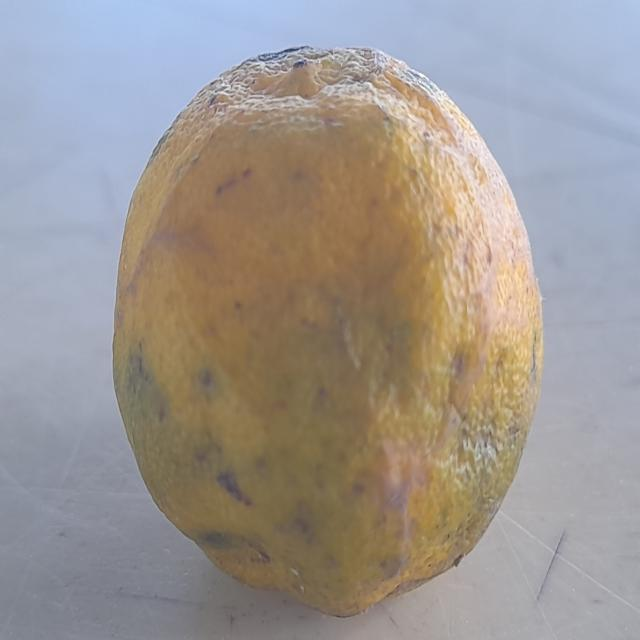black spot: (85, 21, 566, 630)
